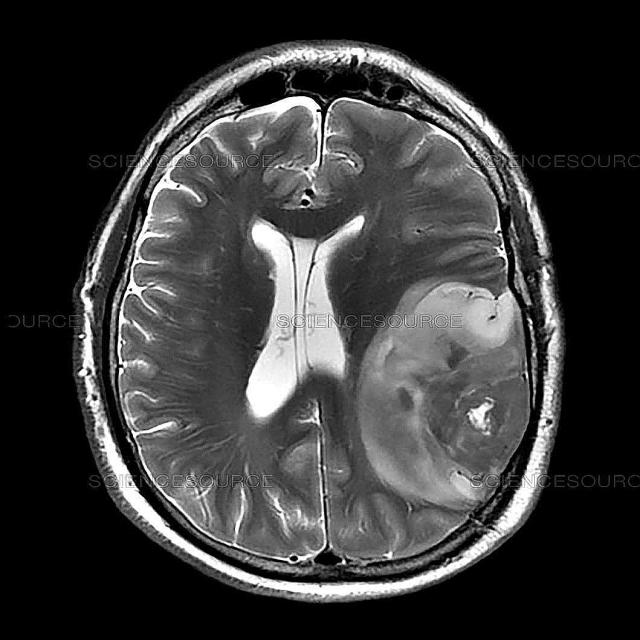Tumor-Cell: (370, 279, 516, 506)
